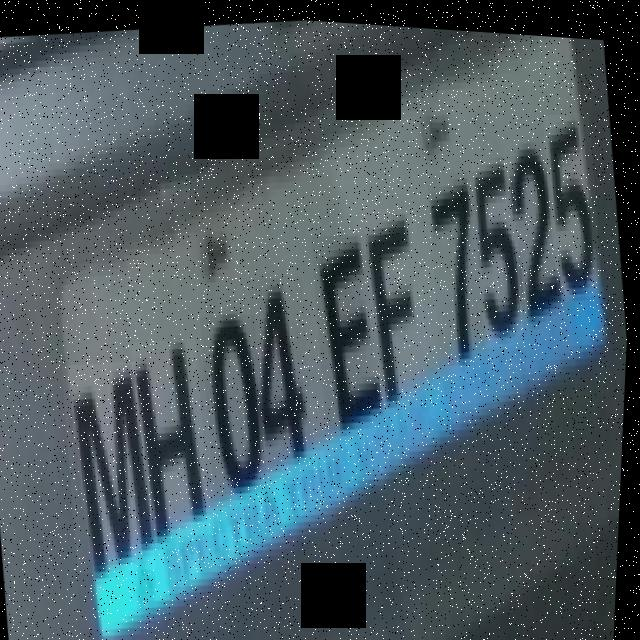0: (197, 308, 279, 501)
4: (244, 268, 326, 463)
5: (537, 102, 611, 291), (467, 150, 535, 343)
7: (420, 162, 502, 385)
E: (306, 225, 395, 429)
F: (360, 198, 442, 405)
H: (127, 332, 223, 539)
M: (57, 355, 168, 576)
